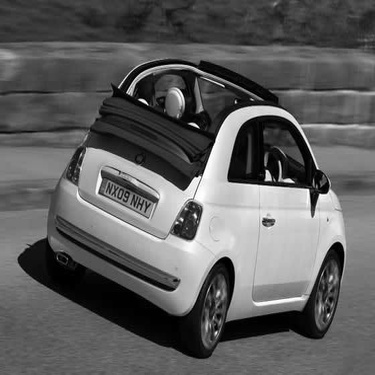car: (42, 53, 353, 362)
